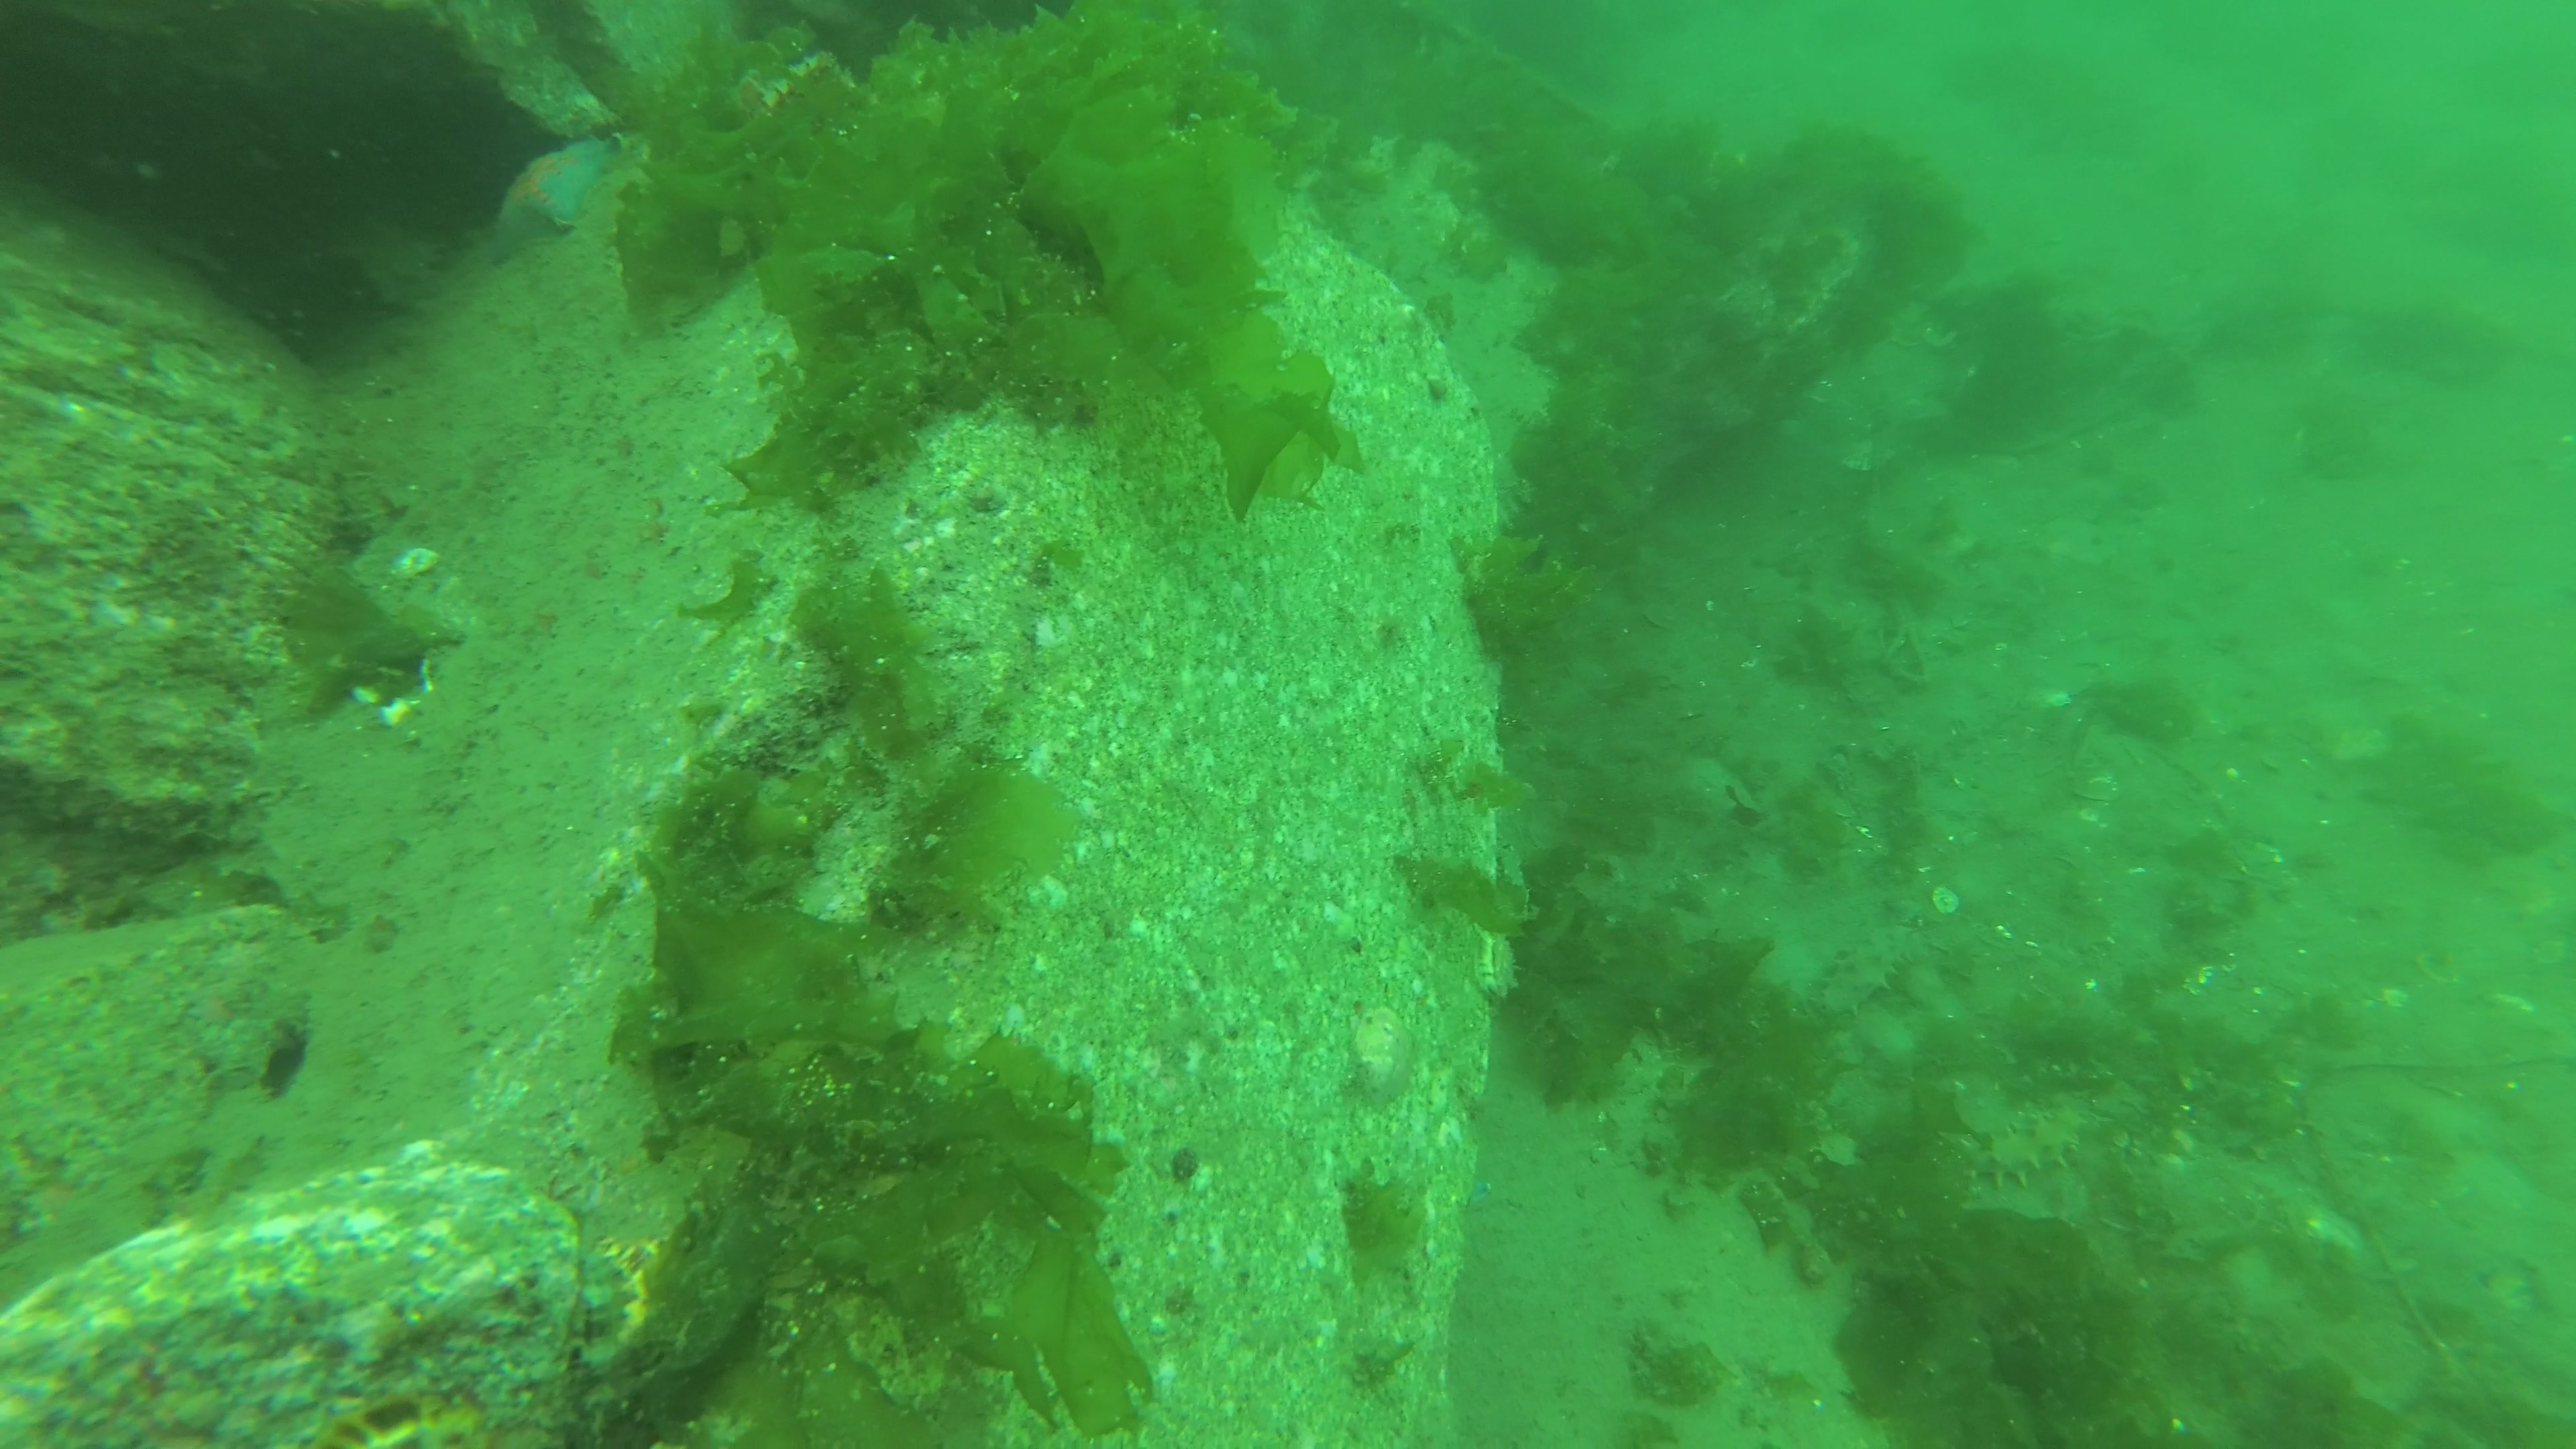holothurian: (1939, 1097, 2095, 1194), (1810, 918, 1932, 1028)
starfish: (479, 133, 630, 272)
